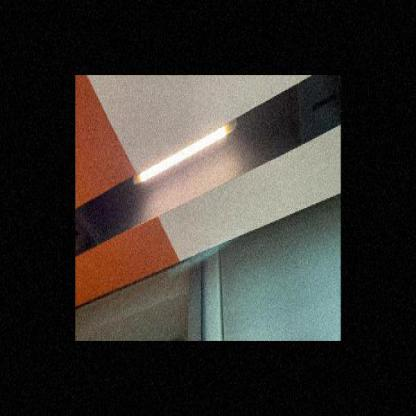light_on: (129, 112, 241, 198)
